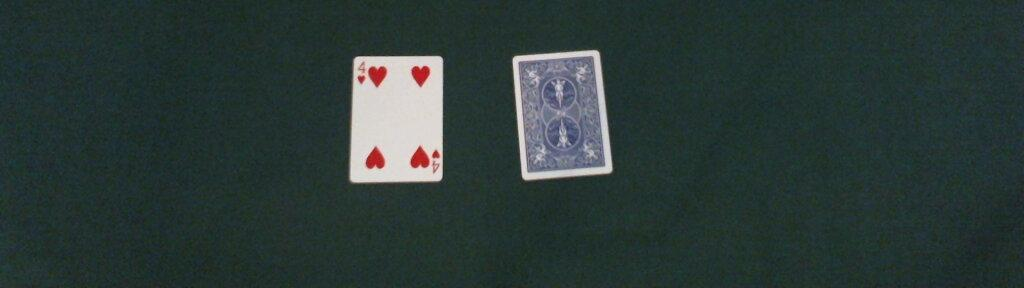back: (512, 49, 612, 180)
four: (349, 55, 443, 182)
